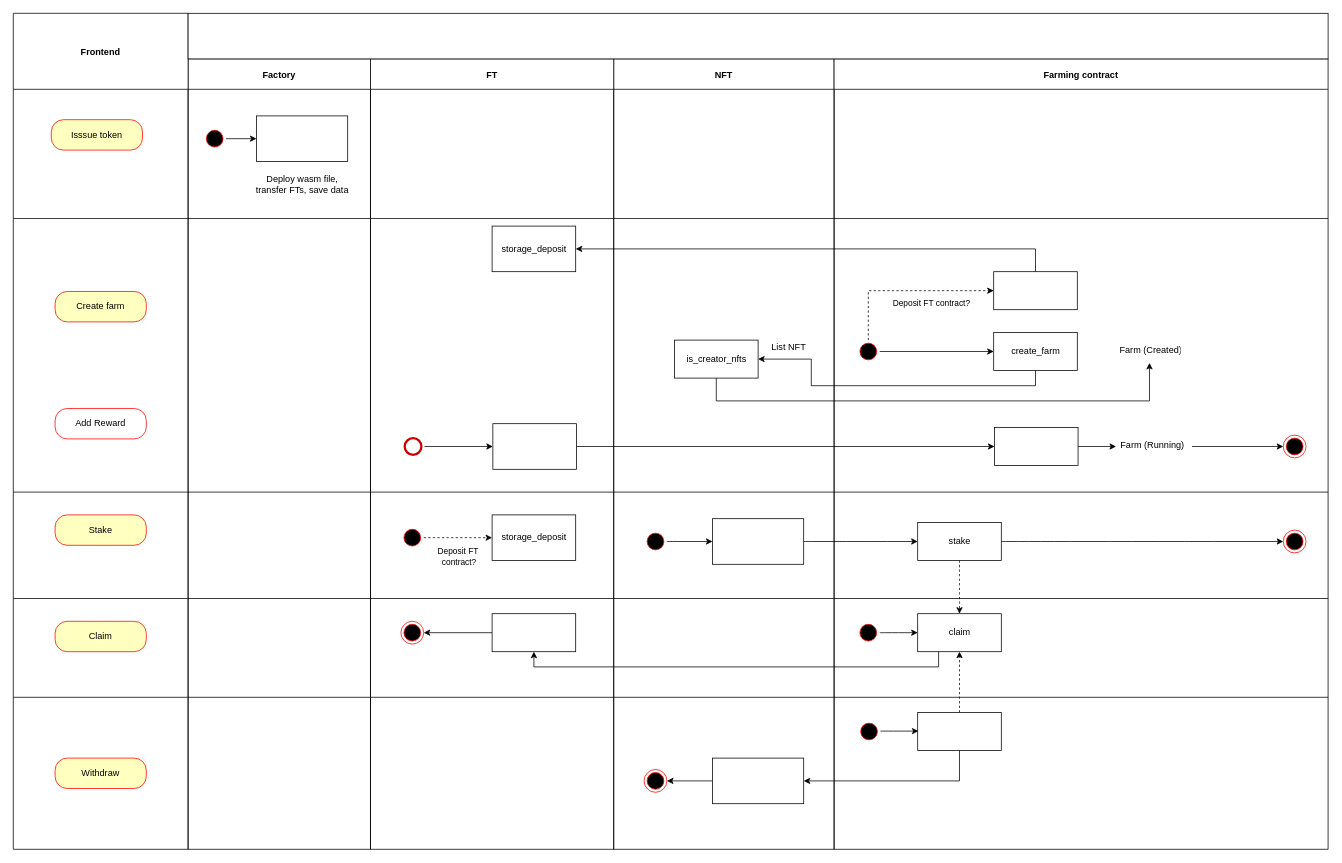
Some shapes in this 1342 by 863 pixel diagram are drawn without their labels. Each missing label, with the centre of its shape:
add_rewards: [1036,446]
Blockchain / Smart contracts: [757,36]
create_token: [302,138]
ft_deposit: [1035,290]
ft_transfer: [533,632]
ft_transfer_call: [534,446]
nft_transfer: [758,780]
nft_transfer_call: [758,541]
with_draw: [959,731]
